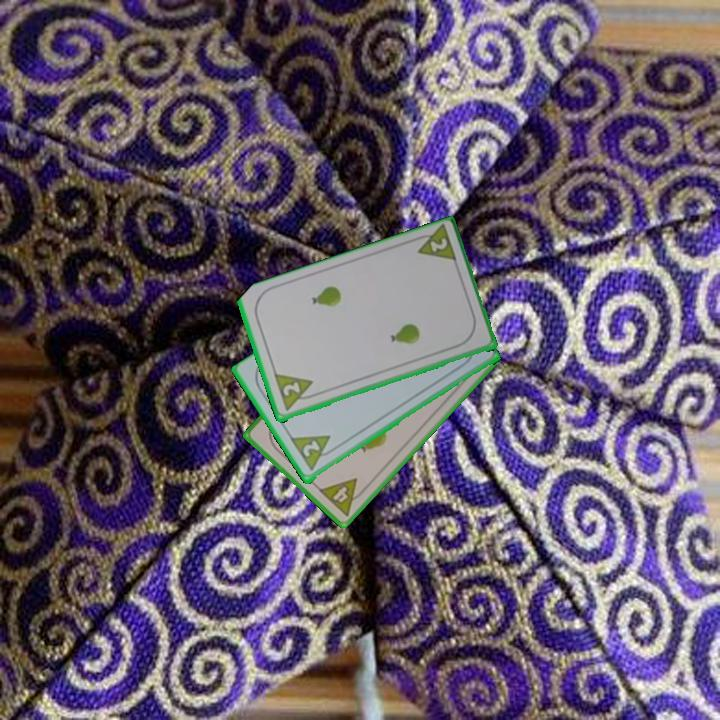2p: (408, 223, 460, 267), (270, 371, 320, 414), (299, 437, 323, 460)
4p: (315, 475, 370, 520)
